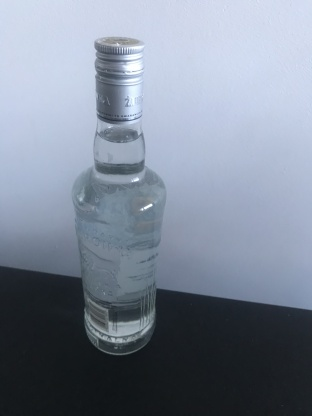nakretka: (92, 33, 147, 128)
